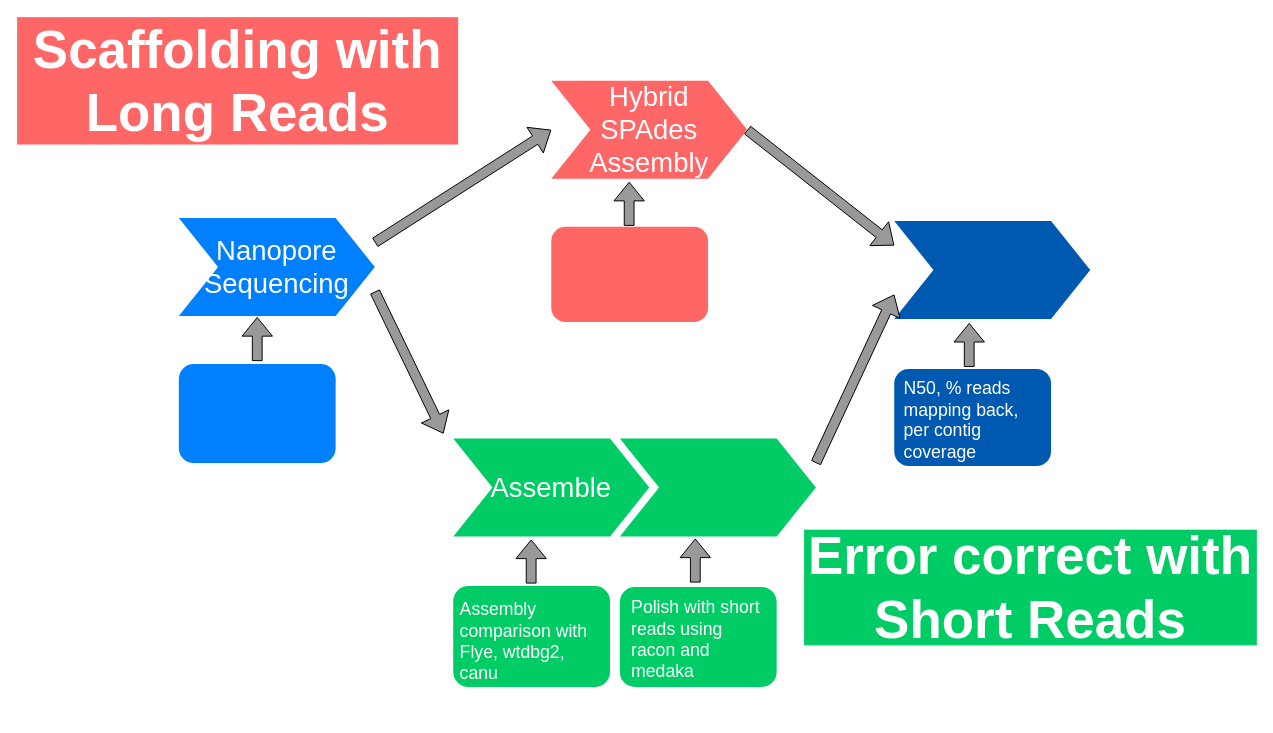
The diagram is 1273 pixels wide and 733 high, and some of its shapes have lost their labels. Each missing label, with the box of its shape:
Compare Assemblies: (894, 220, 1090, 318)
Polish assembly: (619, 438, 815, 536)
Re-sequence metagenome with MinION: (178, 364, 335, 463)
Use long reads to scaffold short read assembly: (551, 226, 708, 321)
